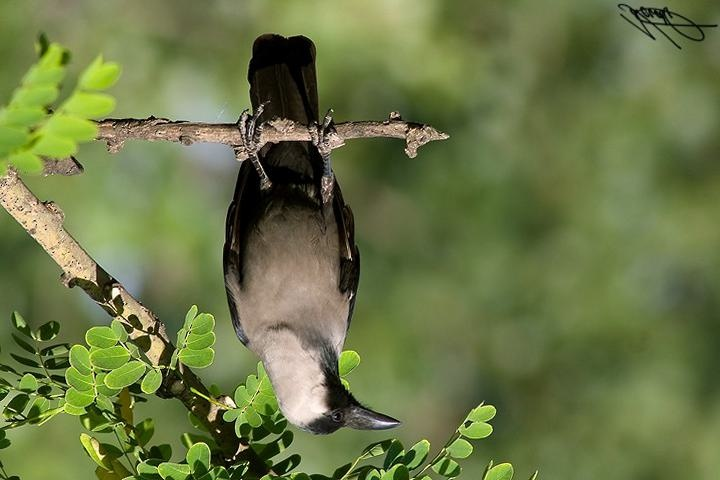crow: (191, 17, 408, 440)
